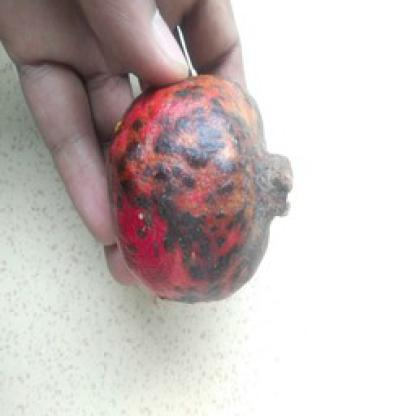pomegranate_rotten: (103, 72, 292, 306)
